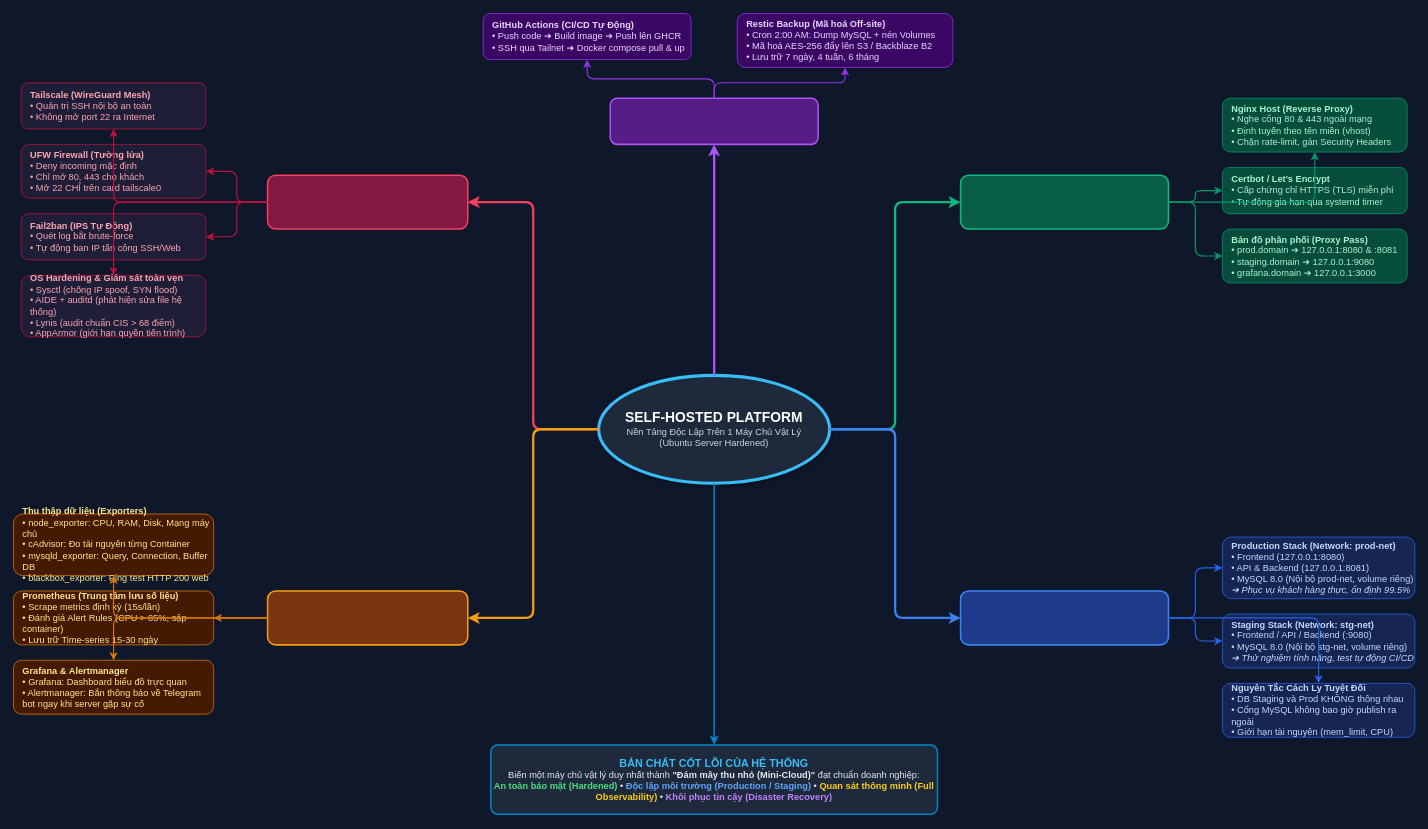
Some shapes in this 1428 by 829 pixel diagram are drawn without their labels. Each missing label, with the centre of its shape:
1. BẢO MẬT & MẠNG NGOẠI VI Lớp giáp bảo vệ và Zero-Trust: [367,201]
2. INGRESS & REVERSE PROXY Cửa ngõ tiếp nhận và định tuyến traffic: [1064,201]
3. ỨNG DỤNG & CÁCH LY (DOCKER) 2 môi trường độc lập hoàn toàn: [1064,617]
4. GIÁM SÁT & CẢNH BÁO Mắt thần theo dõi tài nguyên & lỗi: [367,617]
5. VẬN HÀNH: CI/CD & SAO LƯU Tự động hoá triển khai và Phục hồi sau thảm hoạ: [714,121]
